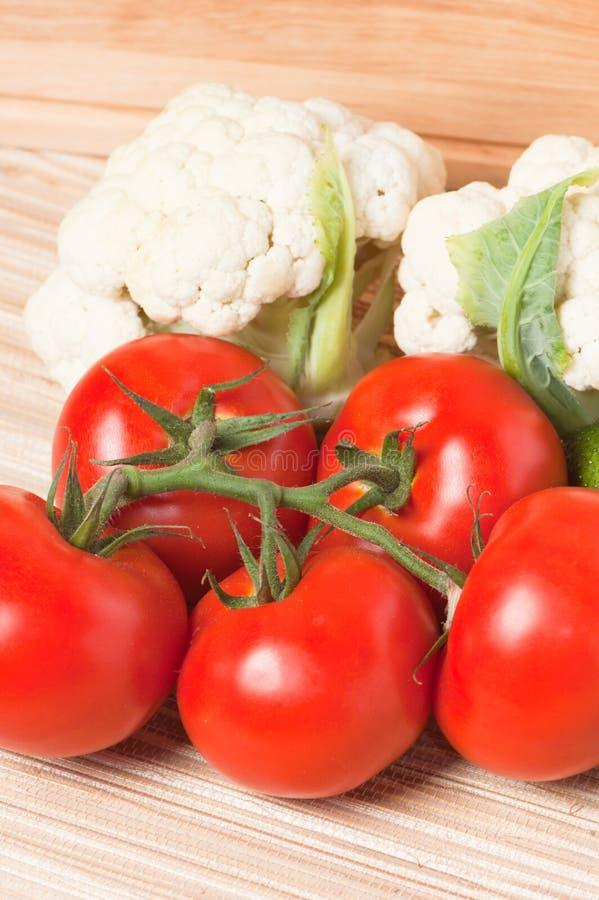apple: (176, 527, 439, 796), (0, 476, 185, 753), (436, 487, 599, 786)
cauliflower: (45, 75, 599, 362)
tomato: (13, 334, 593, 827)
